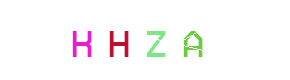A: (134, 0, 214, 80)
H: (78, 0, 158, 80)
K: (44, 0, 124, 80)
Z: (105, 0, 185, 80)
